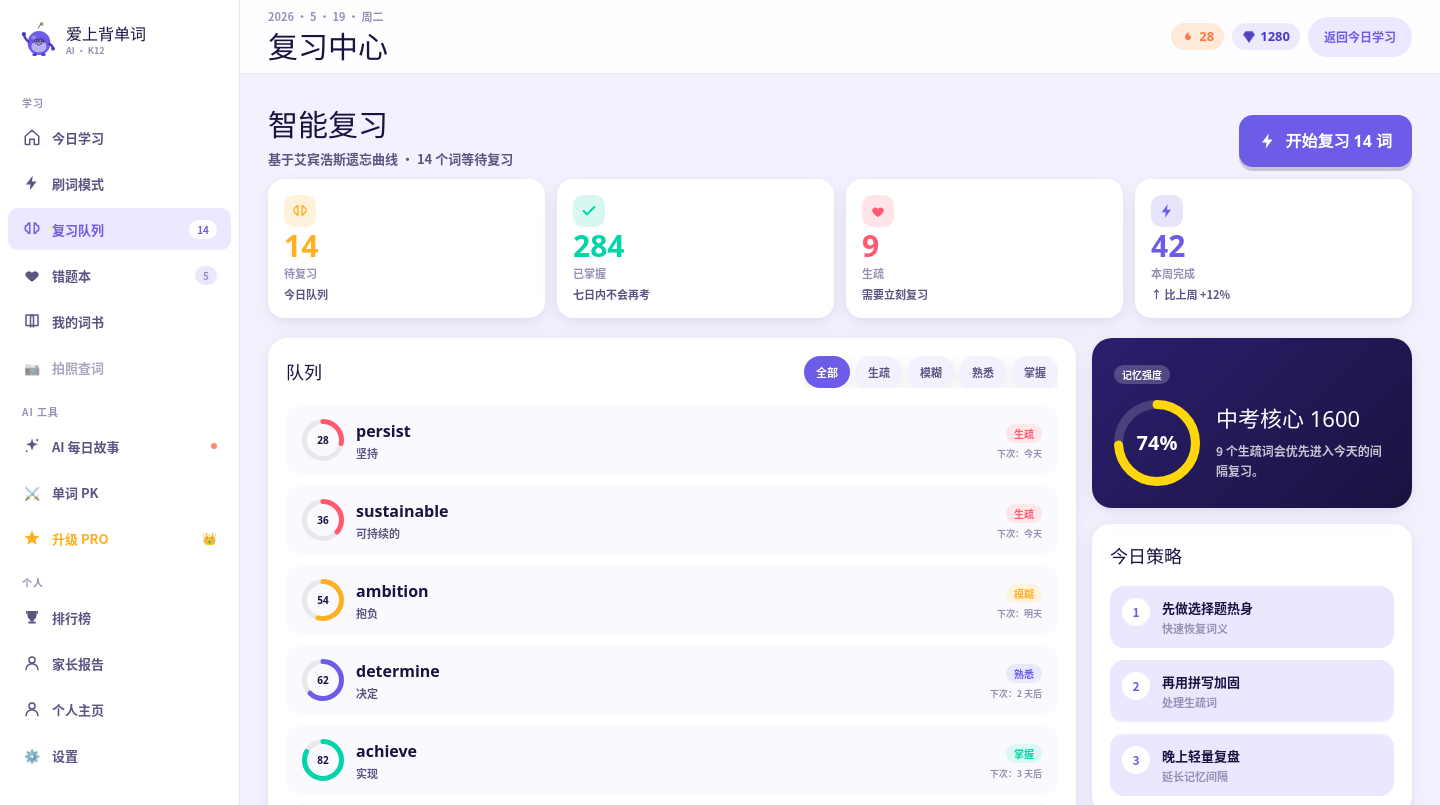
ReviewScreen › renders SRS stats and filters the review queue
expect the heading "智能复习" is shown: met, box [268,104,388,145]
expect the text "基于艾宾浩斯遗忘曲线 · 14 个词等待复习" is shown: met, box [268,151,513,167]
Click the button "生疏". click: (879, 372)
box: [856,356,902,388]
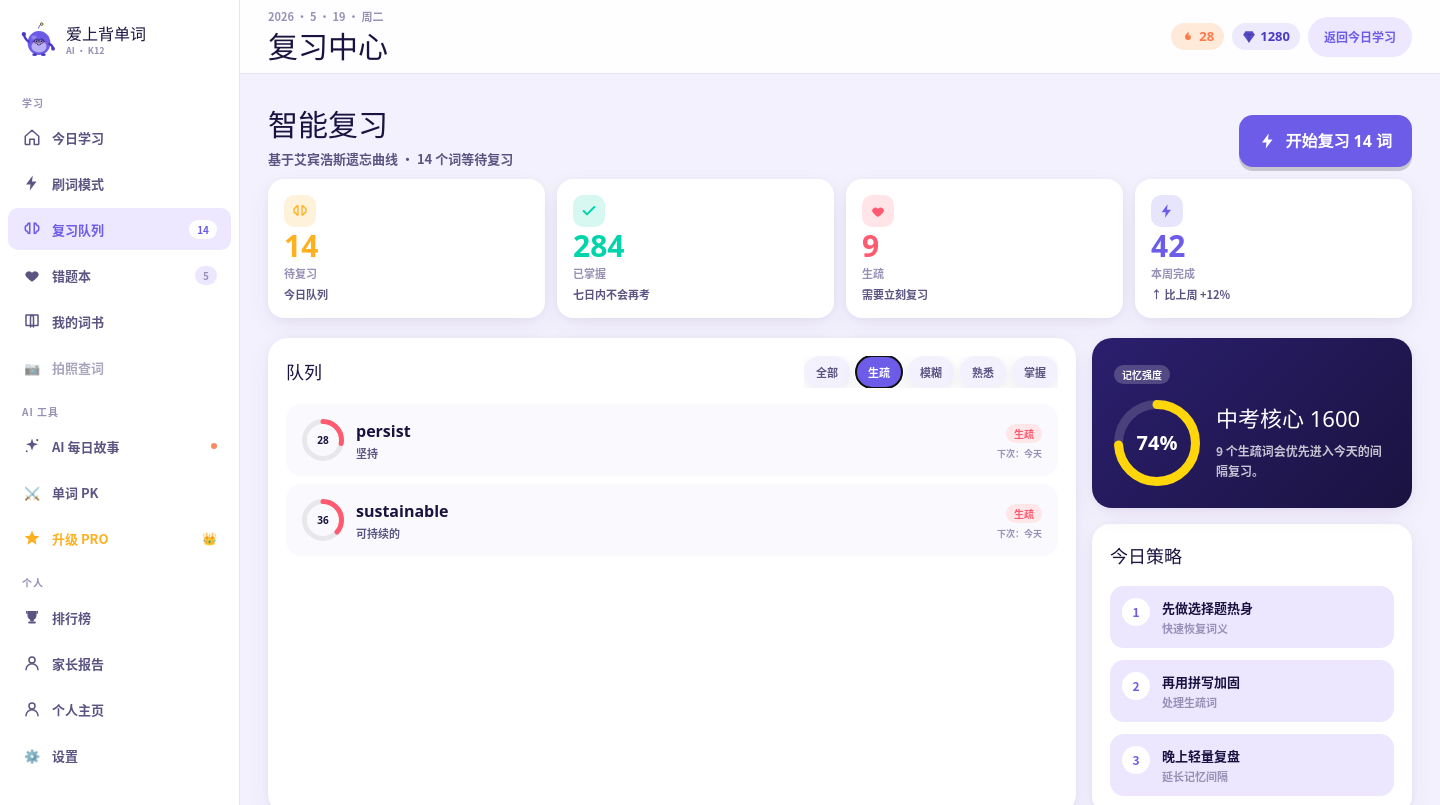
expect the button "28 persist 坚持 生疏 下次：今天" is shown: met, box [286,404,1058,476]
expect the button "achieve 实现" is gone: met
